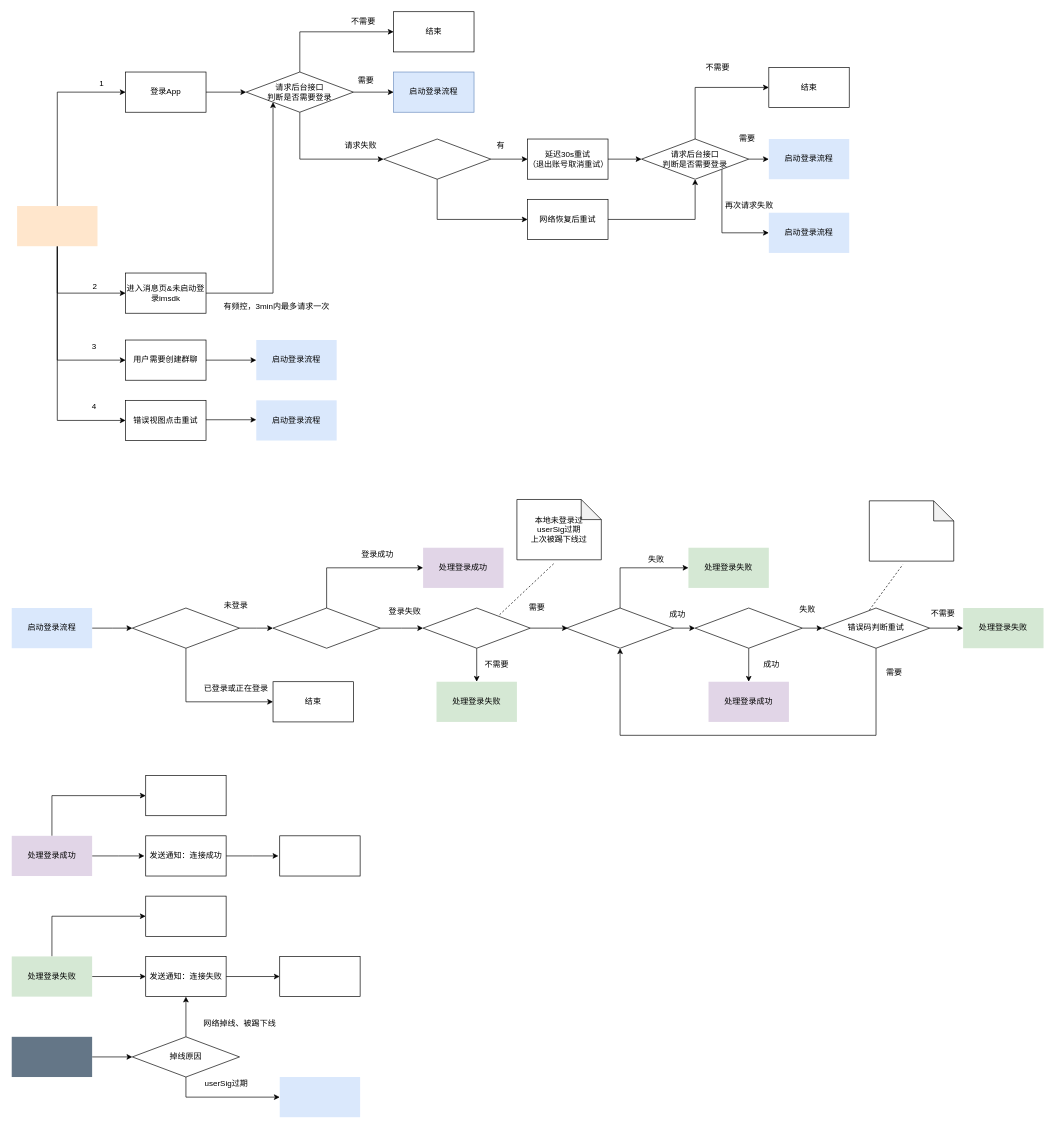
Some shapes in this 1055 by 1129 pixel diagram are drawn without their labels. Here are the shapes that lost their labels. From the top down, the centre of each, then its label:
point 437,158: 是否有网络
point 57,226: IMSDK登录时机
point 911,530: 上次被踢下线过 最多重试2次
point 186,627: 判断登录状态
point 326,627: autoLogin
point 476,627: 错误码判断重新登录
point 620,627: getUserSig
point 748,627: login
point 185,795: 同步K歌个人信息到imsdk（昵称、头像时间戳）
point 319,855: 隐藏错误视图
point 185,915: 加载本地缓存会话
point 319,976: 消息页、聊天页展示错误视图
point 51,1056: 运行时用户掉线
point 319,1097: 启动登录流程 从getUserSig开始
